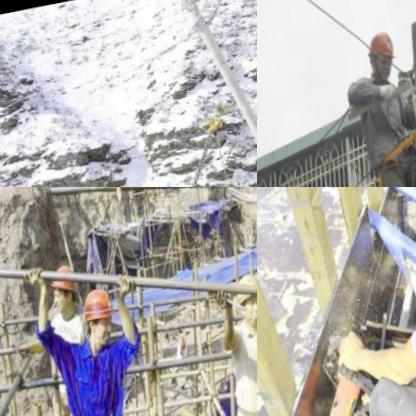helmet: (79, 286, 123, 349), (362, 25, 406, 87), (47, 261, 87, 316), (232, 267, 257, 331)
